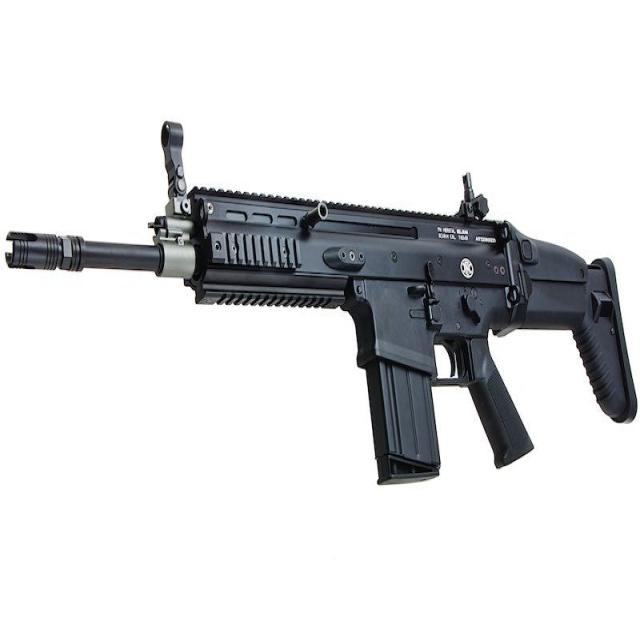Gun: (3, 105, 640, 498)
